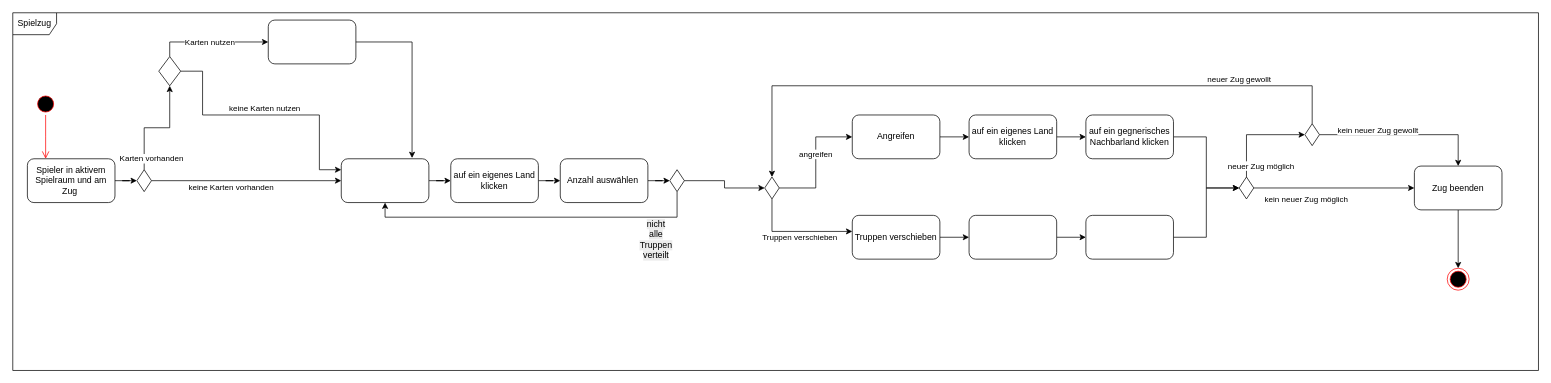
Some shapes in this 1551 by 383 pixel diagram are drawn without their labels. The centre of each missing label's shape, as x and y in pixels:
auf ein eigenes Land klicken (nach wo): pixel 1129 237
auf ein eigenes Land klicken (von wo): pixel 1012 237
Kartenaktion verwenden: pixel 312 41
Truppen verteilen: pixel 385 180
